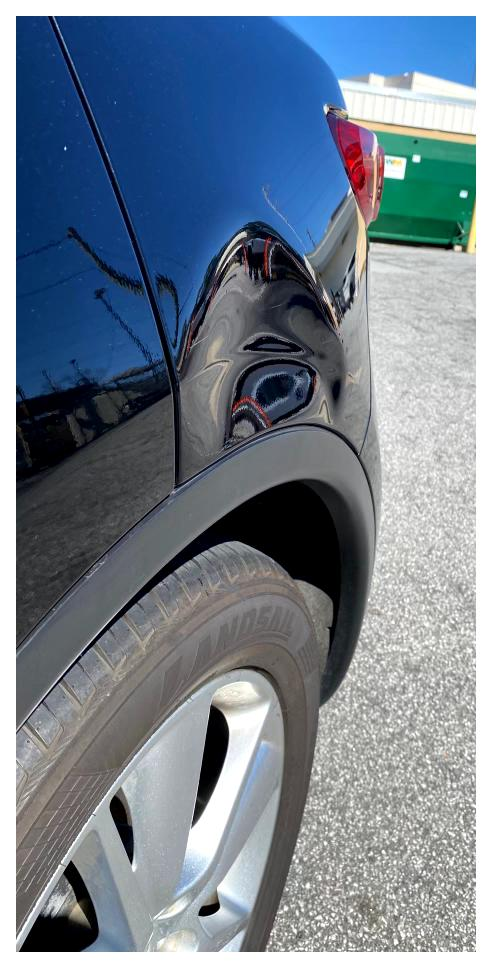dent: (155, 213, 363, 450)
